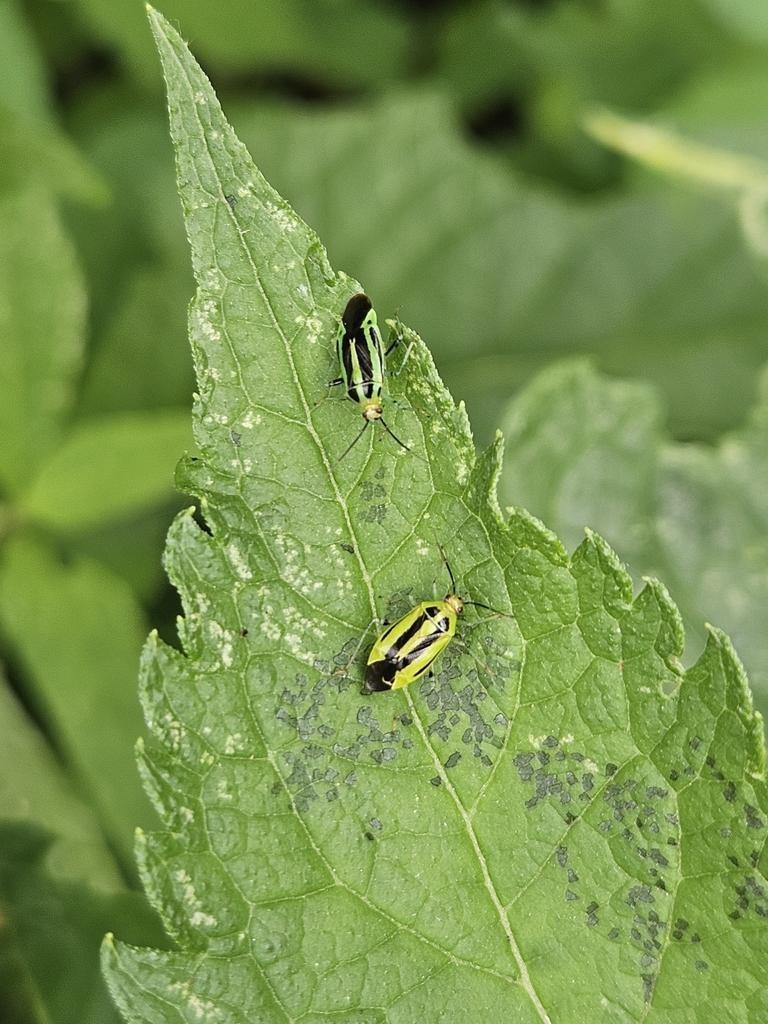plant_bugs: (320, 509, 533, 730), (281, 264, 460, 487)
